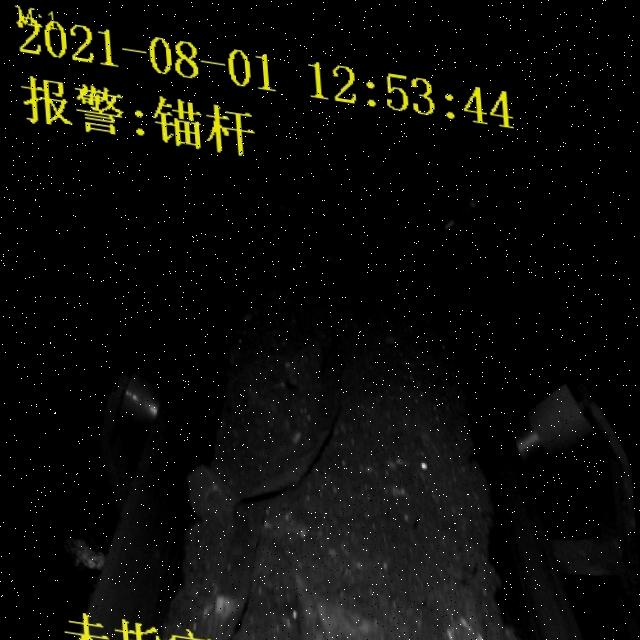Other_garbage: (227, 368, 359, 512), (190, 513, 263, 640)
large_sized_coal: (282, 574, 379, 640), (173, 458, 229, 522)
